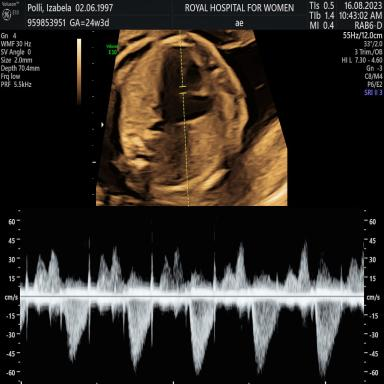Ultrasound-Waves: (25, 215, 360, 384)
